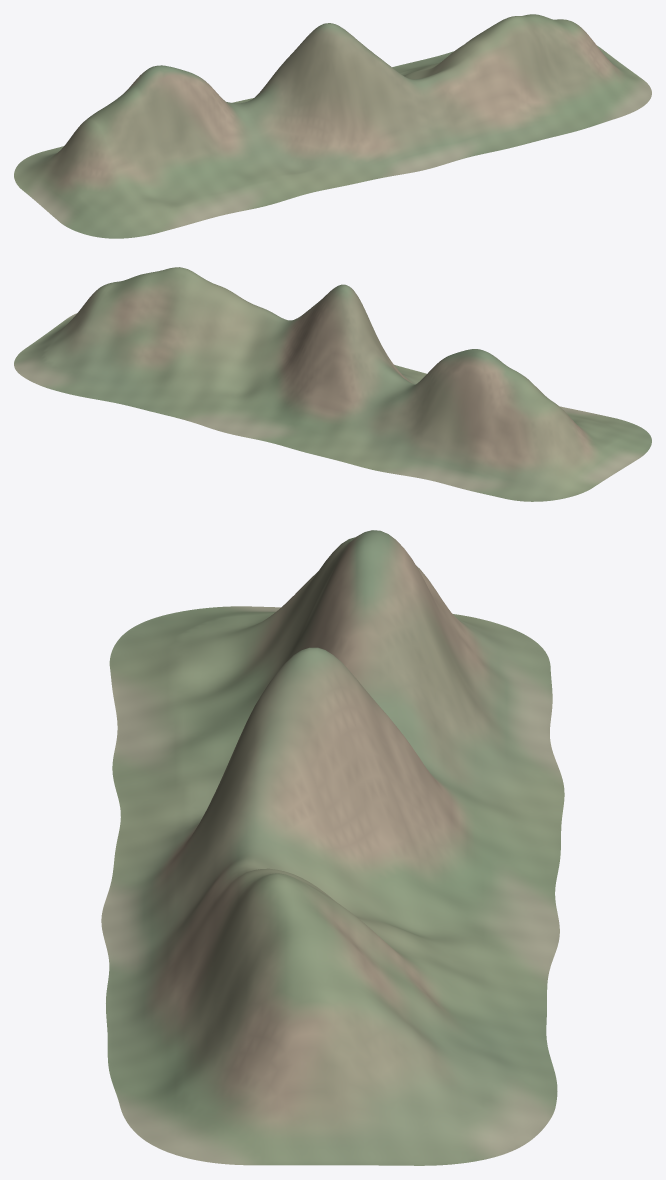
Rendered from Stage 2 Central Reserve.glb.
3 views of the same model, one above another, from view 1: azimuth 30°, elevation 25°; view 2: azimuth 150°, elevation 25°; view 3: azimuth 270°, elevation 25° (orthographic). The views are drawn at different scales.
Visible parts, largest first — view 1: STAGE2 Central Sandstone Bushland Reserve; view 2: STAGE2 Central Sandstone Bushland Reserve; view 3: STAGE2 Central Sandstone Bushland Reserve.
Boxes of the visible parts, <box> form: STAGE2 Central Sandstone Bushland Reserve: <box>14,14,651,238</box>; STAGE2 Central Sandstone Bushland Reserve: <box>14,267,651,501</box>; STAGE2 Central Sandstone Bushland Reserve: <box>101,530,564,1165</box>.
Size of the model in its own units: 306 by 58.69 by 107.
